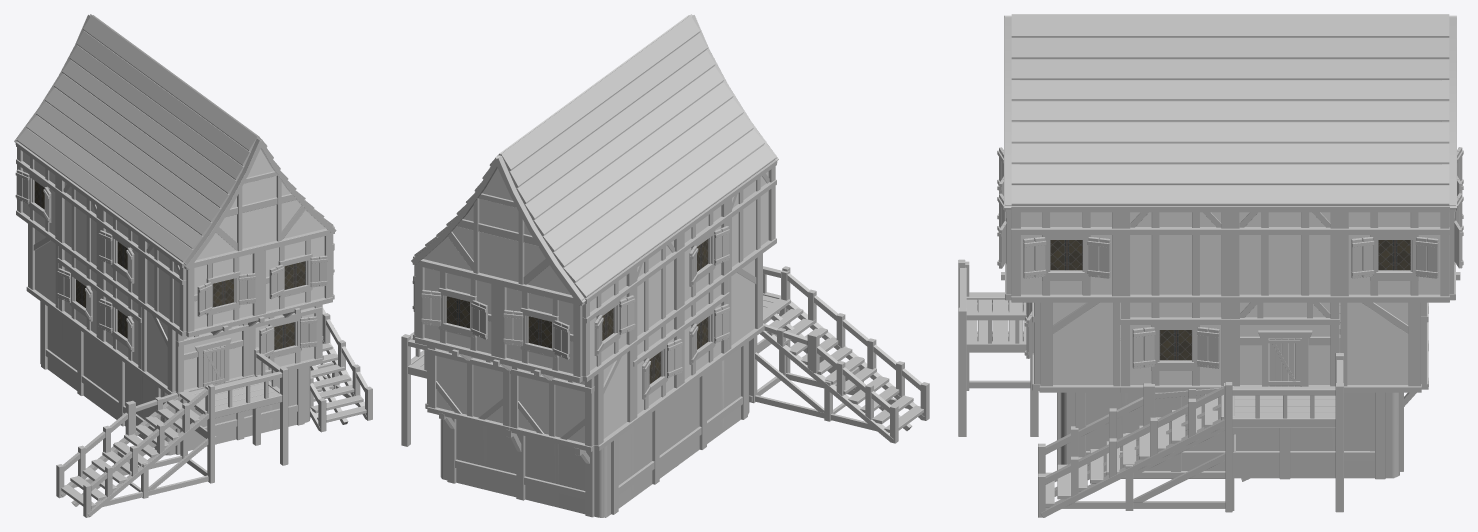
Rendered from House_1A19.fbx.
The picture shows the model from 3 angles, left to right: view 1: azimuth 30°, elevation 25°; view 2: azimuth 150°, elevation 25°; view 3: azimuth 270°, elevation 25°; orthographic projection. The views are drawn at different scales.
Parts seen in each view (by area): view 1: House_1A19, Cube.2343, Plane.187, Plane.186, Plane.188; view 2: House_1A19, Plane.223, Plane.224; view 3: House_1A19, Cube.2352, Plane.279, Plane.280, Plane.281.
Part boxes in pixels (left/top/right/bottom): House_1A19: left=14, top=14, right=372, bottom=517; Cube.2343: left=203, top=345, right=225, bottom=387; Plane.187: left=284, top=261, right=305, bottom=289; Plane.186: left=213, top=278, right=233, bottom=307; Plane.188: left=274, top=322, right=294, bottom=350; House_1A19: left=401, top=14, right=929, bottom=517; Plane.223: left=528, top=316, right=551, bottom=348; Plane.224: left=446, top=296, right=469, bottom=328; House_1A19: left=958, top=14, right=1463, bottom=517; Cube.2352: left=1268, top=338, right=1301, bottom=386; Plane.279: left=1378, top=240, right=1410, bottom=270; Plane.280: left=1050, top=240, right=1082, bottom=270; Plane.281: left=1159, top=330, right=1191, bottom=360.
Size of the model in its own units: 1947 by 1879 by 2034.
